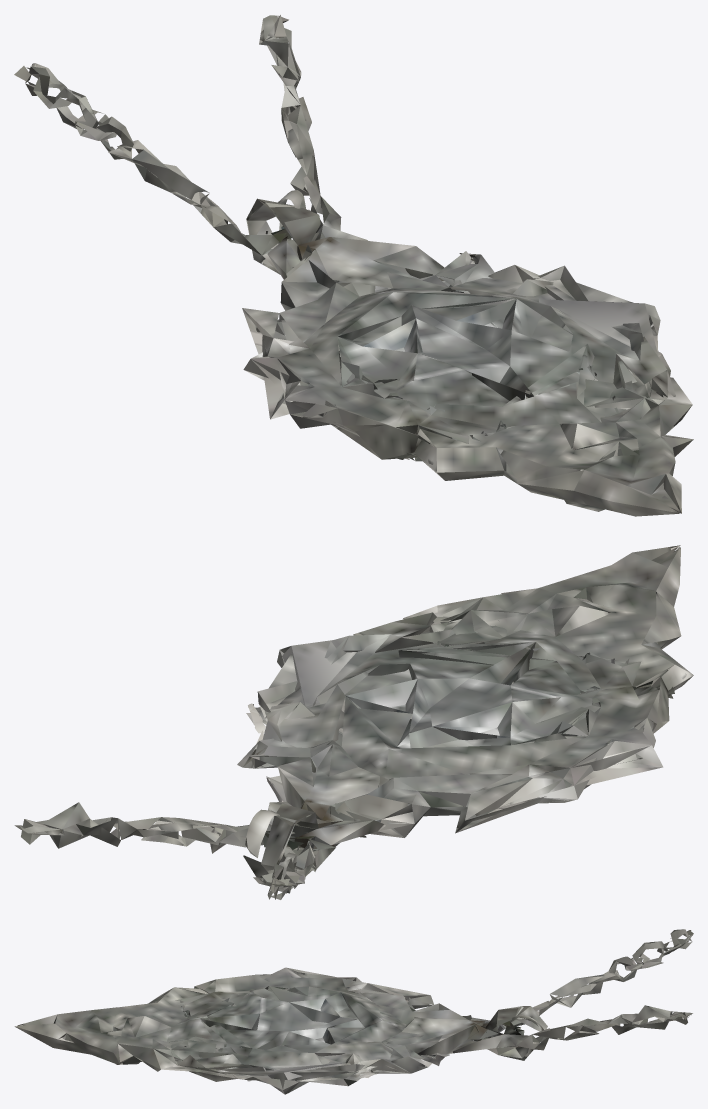
The model's file is medallion_LOD2.fbx.
3 views of the same model, one above another, from view 1: azimuth 30°, elevation 25°; view 2: azimuth 150°, elevation 25°; view 3: azimuth 270°, elevation 25° (orthographic). The views are drawn at different scales.
Parts seen in each view (by area): view 1: medallion_LOD2; view 2: medallion_LOD2; view 3: medallion_LOD2.
Boxes of the visible parts, x1,y1,x2,y2 form: medallion_LOD2: [14, 15, 693, 516]; medallion_LOD2: [14, 545, 693, 899]; medallion_LOD2: [14, 929, 693, 1094].
Bounding box in the file's own units: 0.0499 × 0.0187 × 0.1193.
1 material, 1 textured.
